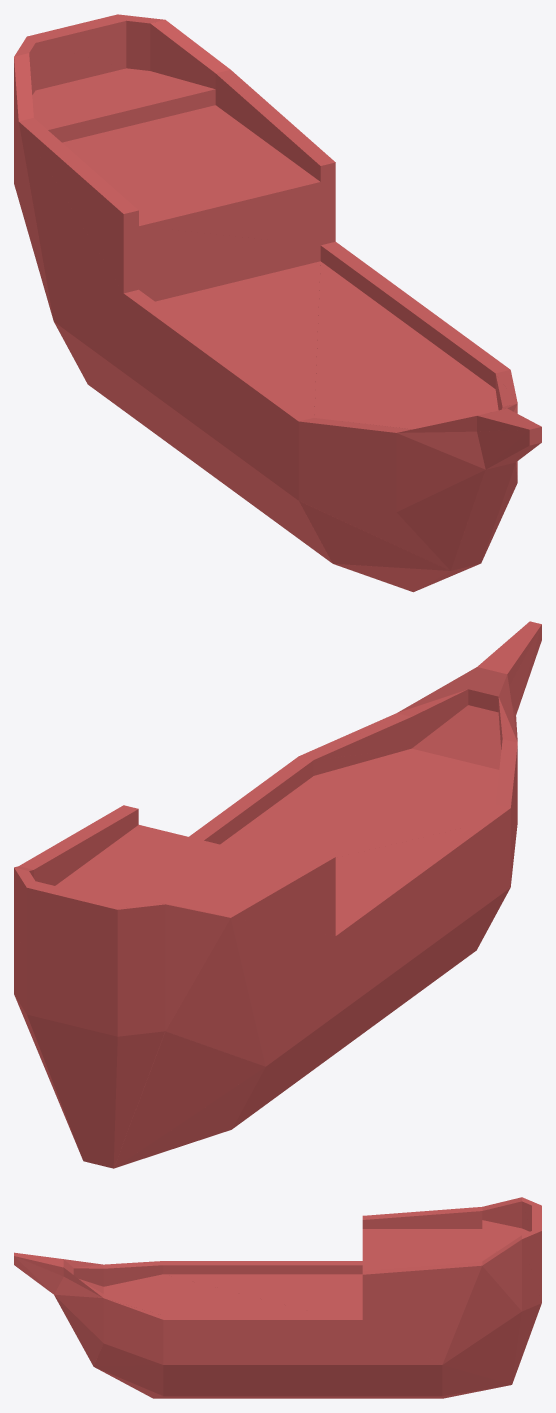
File: ki_fune_up.glb
3 views of the same model, one above another, from view 1: azimuth 30°, elevation 25°; view 2: azimuth 150°, elevation 25°; view 3: azimuth 270°, elevation 25° (orthographic). The views are drawn at different scales.
Visible parts, largest first — view 1: ki_fune_up_col; view 2: ki_fune_up_col; view 3: ki_fune_up_col.
Boxes of the visible parts, x1,y1,x2,y2 form: ki_fune_up_col: (14, 14, 541, 592); ki_fune_up_col: (14, 621, 541, 1168); ki_fune_up_col: (14, 1197, 541, 1398).
Size of the model in its own units: 1.4 by 2 by 5.3.
